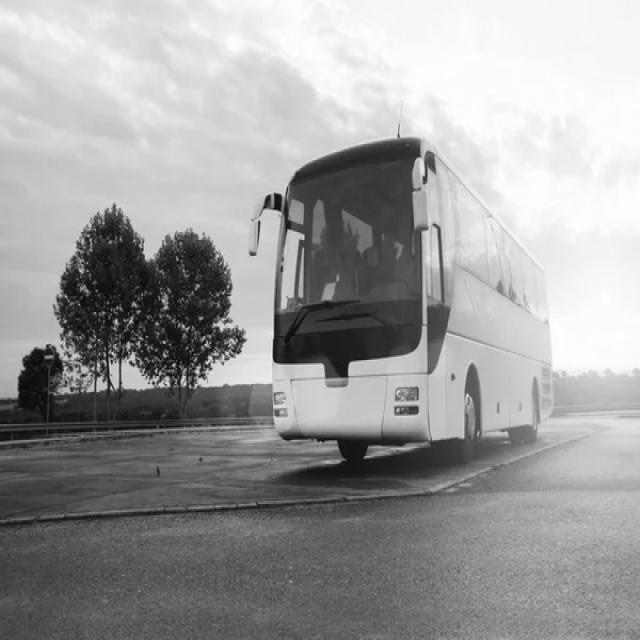Bus: (251, 138, 554, 463)
Tree: (134, 229, 246, 418), (53, 204, 145, 418)
